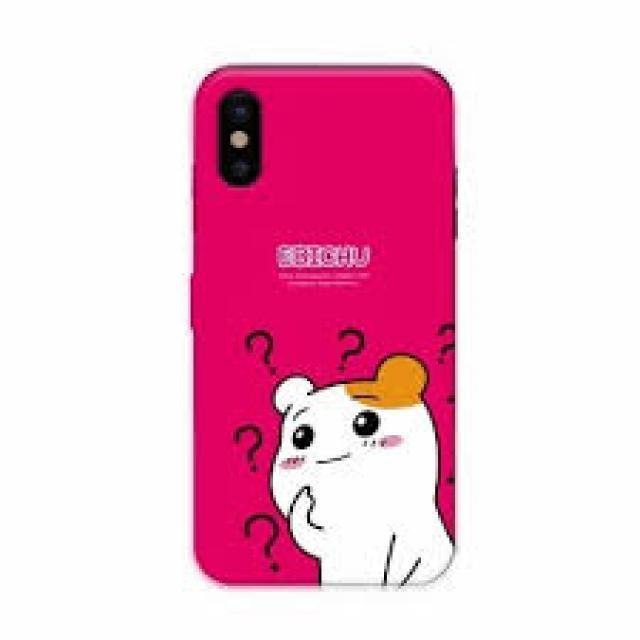Phone: (192, 60, 462, 591)
